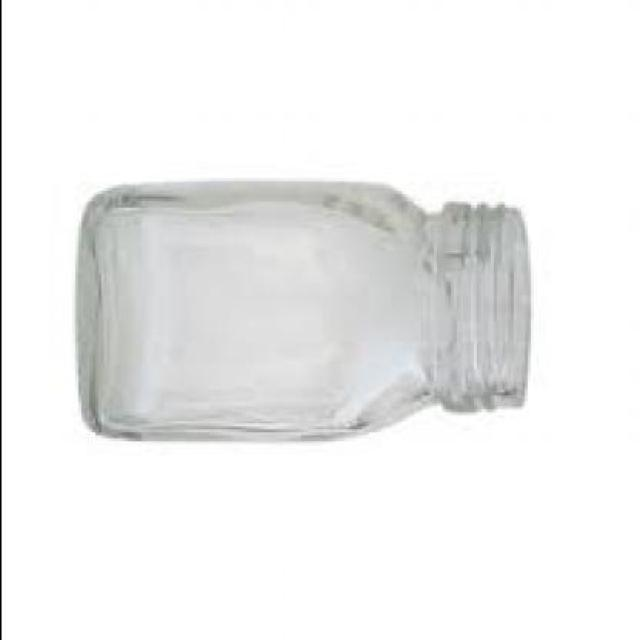GLASS: (80, 179, 532, 441)
